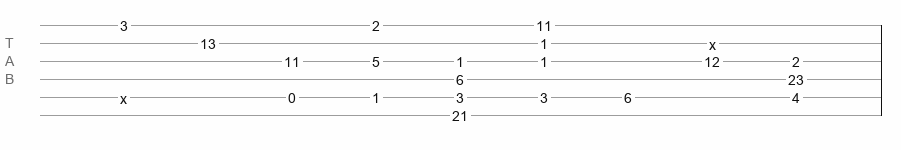0: (288, 90, 296, 100)
1: (372, 90, 380, 100), (456, 54, 464, 64), (540, 36, 548, 46), (540, 54, 548, 64)
11: (284, 54, 300, 64), (536, 18, 552, 28)
12: (704, 54, 720, 64)
13: (200, 36, 216, 46)
2: (372, 18, 380, 28), (792, 54, 800, 64)
21: (452, 108, 468, 118)
23: (788, 72, 804, 82)
3: (120, 18, 128, 28), (456, 90, 464, 100), (540, 90, 548, 100)
4: (792, 90, 800, 100)
5: (372, 54, 380, 64)
6: (456, 72, 464, 82), (624, 90, 632, 100)
x: (120, 91, 127, 99), (709, 37, 716, 45)
